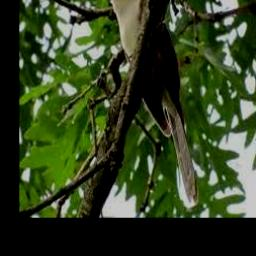Cuckoo: (94, 0, 199, 203)
